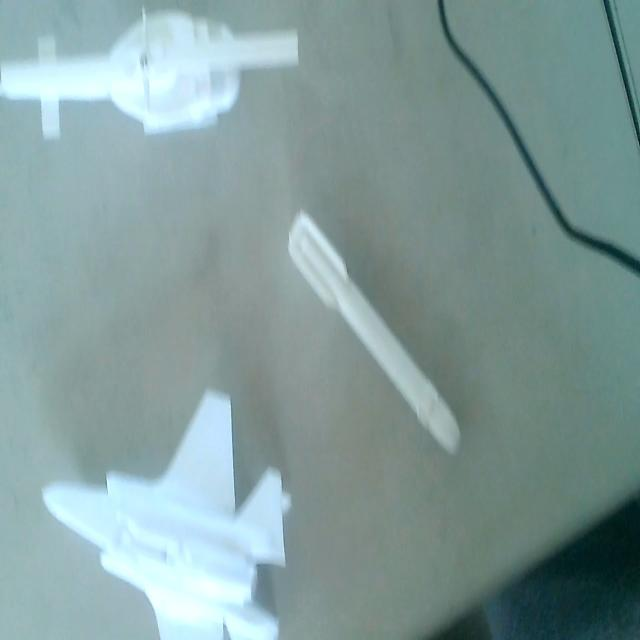Helicopter: (0, 3, 300, 147)
Jet: (43, 386, 294, 640)
Rocket: (288, 212, 462, 452)
